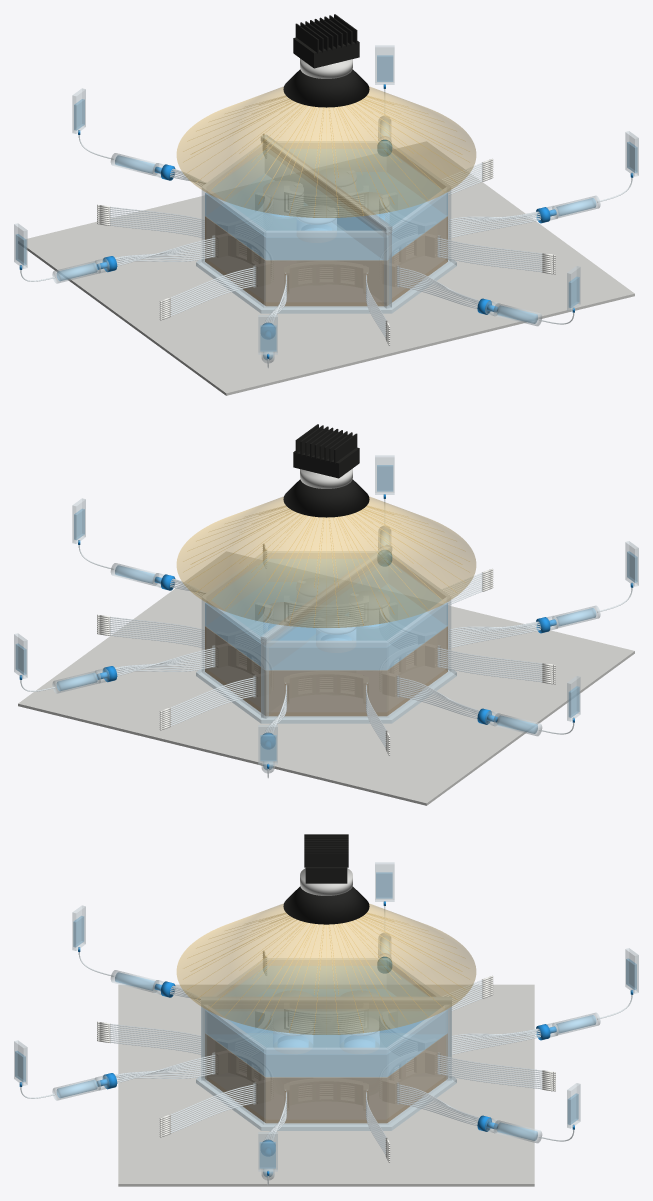
File: IPI.glb
The picture shows the model from 3 angles, top to bottom: view 1: azimuth 30°, elevation 25°; view 2: azimuth 150°, elevation 25°; view 3: azimuth 270°, elevation 25°; orthographic projection.
Visible parts, largest first — view 1: silver foil working surface, wide soft transparent light cone covering all six faces, custom slotted acrylic hex reactor shell, left water layer sealed half, left packed soil sealed half, right water layer sealed half, full-height central acrylic partition, right packed soil sealed half, wider top black lamp shade, clear acrylic bottom plate, partition top lip, compact lamp housing (+11 smaller); view 2: silver foil working surface, wide soft transparent light cone covering all six faces, custom slotted acrylic hex reactor shell, left water layer sealed half, left packed soil sealed half, right water layer sealed half, full-height central acrylic partition, right packed soil sealed half, wider top black lamp shade, clear acrylic bottom plate, partition top lip, compact lamp housing (+11 smaller); view 3: silver foil working surface, wide soft transparent light cone covering all six faces, custom slotted acrylic hex reactor shell, right water layer sealed half, right packed soil sealed half, full-height central acrylic partition, left water layer sealed half, wider top black lamp shade, clear acrylic bottom plate, partition top lip, upright water supply pack behind syringe 02 shortened uprigh, upright water supply pack behind syringe 05 shortened uprigh (+11 smaller).
Boxes of the visible parts, left/top/right/bottom form: silver foil working surface: left=18, top=141, right=634, bottom=395; wide soft transparent light cone covering all six faces: left=177, top=86, right=475, bottom=217; custom slotted acrylic hex reactor shell: left=201, top=141, right=451, bottom=307; left water layer sealed half: left=205, top=150, right=386, bottom=260; left packed soil sealed half: left=205, top=204, right=386, bottom=306; right water layer sealed half: left=287, top=149, right=447, bottom=259; full-height central acrylic partition: left=261, top=137, right=391, bottom=308; right packed soil sealed half: left=385, top=204, right=447, bottom=305; wider top black lamp shade: left=283, top=69, right=369, bottom=107; clear acrylic bottom plate: left=196, top=257, right=456, bottom=313; partition top lip: left=261, top=134, right=392, bottom=232; compact lamp housing: left=293, top=37, right=359, bottom=68; silver foil working surface: left=18, top=551, right=634, bottom=805; wide soft transparent light cone covering all six faces: left=177, top=496, right=475, bottom=627; custom slotted acrylic hex reactor shell: left=201, top=551, right=451, bottom=717; left water layer sealed half: left=266, top=560, right=447, bottom=670; left packed soil sealed half: left=266, top=614, right=447, bottom=716; right water layer sealed half: left=205, top=559, right=365, bottom=669; full-height central acrylic partition: left=261, top=547, right=391, bottom=718; right packed soil sealed half: left=205, top=614, right=267, bottom=715; wider top black lamp shade: left=283, top=479, right=369, bottom=517; clear acrylic bottom plate: left=196, top=667, right=456, bottom=723; partition top lip: left=260, top=544, right=391, bottom=642; compact lamp housing: left=293, top=447, right=359, bottom=478; silver foil working surface: left=118, top=984, right=534, bottom=1186; wide soft transparent light cone covering all six faces: left=177, top=903, right=475, bottom=1034; custom slotted acrylic hex reactor shell: left=202, top=958, right=450, bottom=1124; right water layer sealed half: left=205, top=1010, right=447, bottom=1077; right packed soil sealed half: left=205, top=1033, right=447, bottom=1123; full-height central acrylic partition: left=201, top=999, right=451, bottom=1080; left water layer sealed half: left=225, top=966, right=427, bottom=996; wider top black lamp shade: left=283, top=886, right=369, bottom=924; clear acrylic bottom plate: left=196, top=1076, right=456, bottom=1130; partition top lip: left=201, top=997, right=451, bottom=1004; upright water supply pack behind syringe 02 shortened uprigh: left=375, top=862, right=394, bottom=901; upright water supply pack behind syringe 05 shortened uprigh: left=258, top=1132, right=277, bottom=1171.
Bounding box in the file's own units: 463 × 193 × 450.
